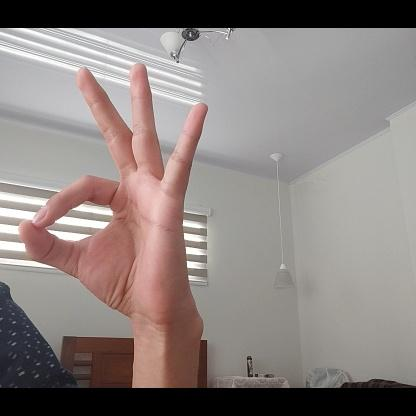F: (17, 67, 203, 325)
